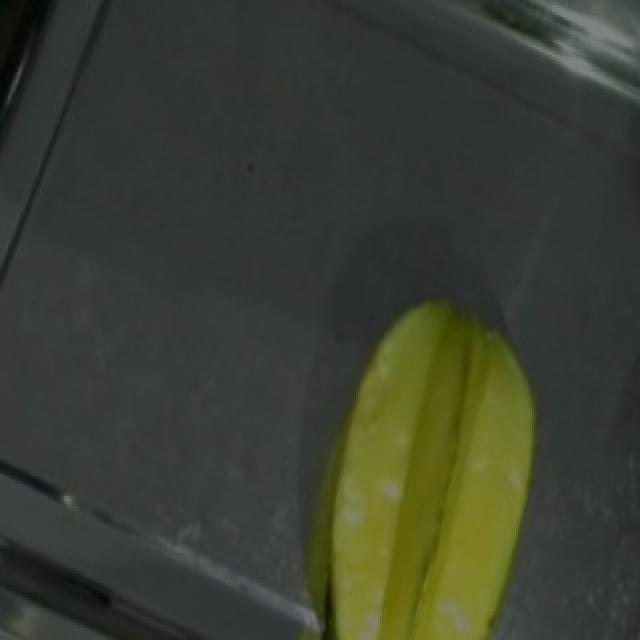fruit: (300, 270, 578, 640)
